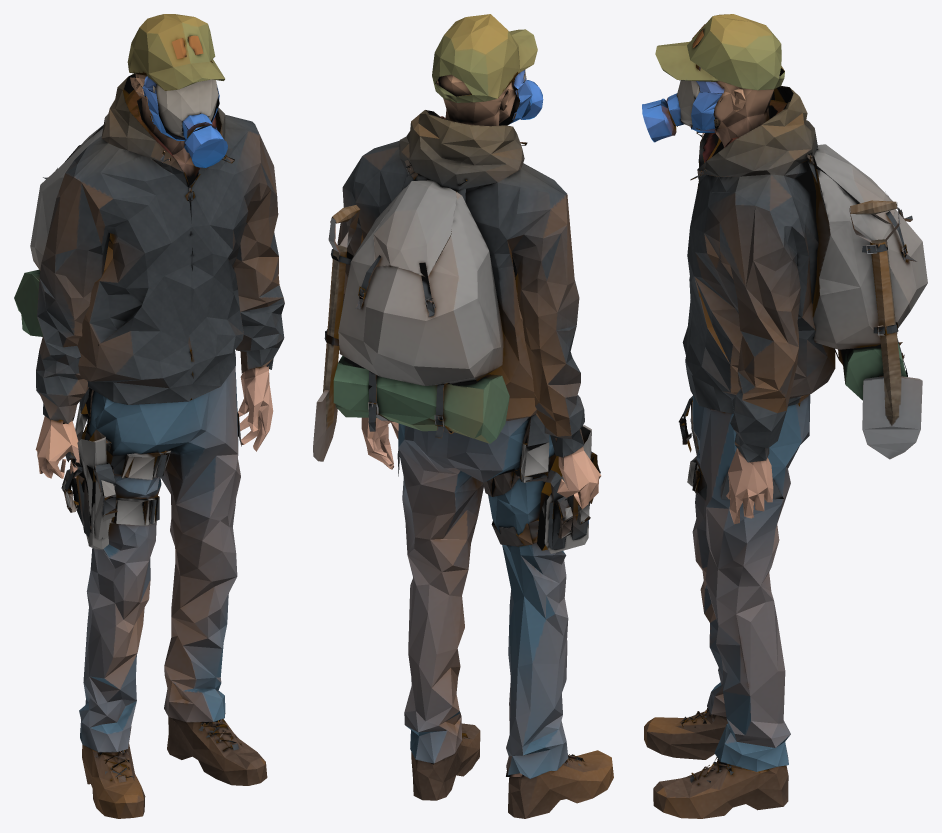
File: character.obj
3 views of the same model, side by side, from view 1: azimuth 30°, elevation 25°; view 2: azimuth 150°, elevation 25°; view 3: azimuth 270°, elevation 25° (orthographic).
Visible parts, largest first — view 1: Leather_small_Low.003; view 2: Leather_small_Low.003; view 3: Leather_small_Low.003.
Part boxes in pixels (left/top/right/bottom): Leather_small_Low.003: left=14, top=14, right=284, bottom=818; Leather_small_Low.003: left=313, top=14, right=613, bottom=818; Leather_small_Low.003: left=642, top=14, right=927, bottom=818.
Size of the model in its own units: 63.66 by 187 by 62.71.
